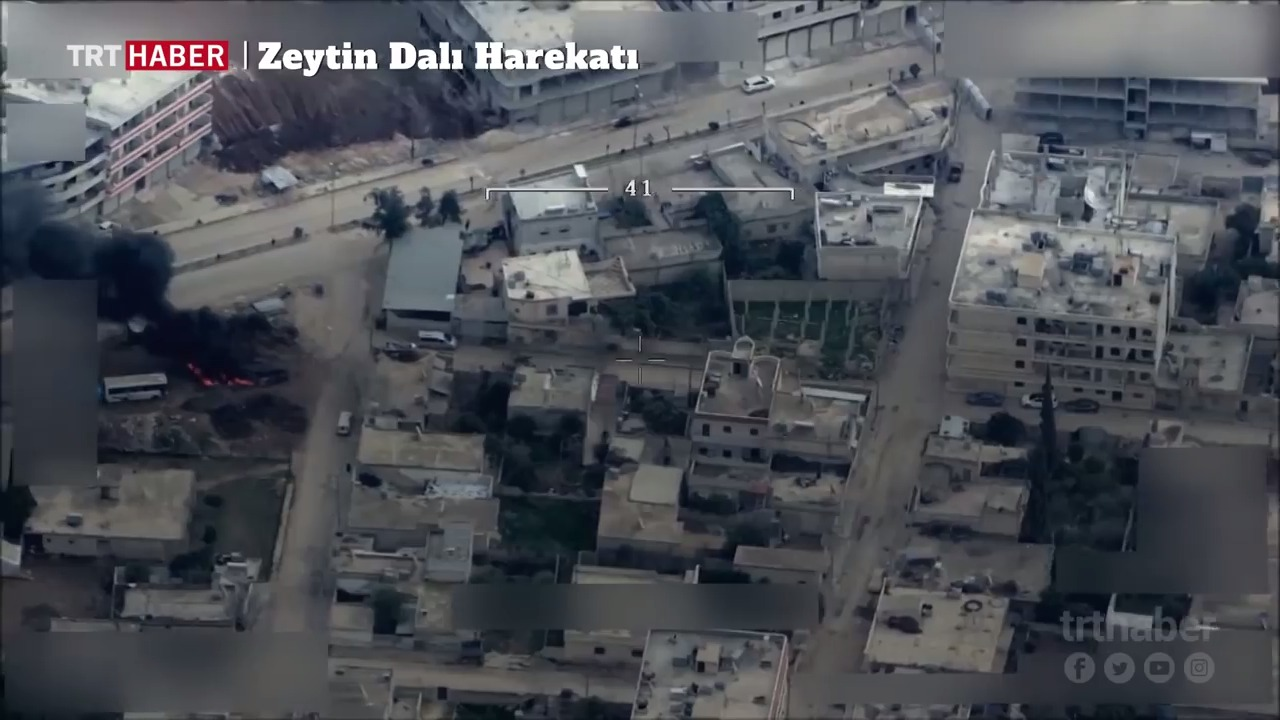arac: (97, 365, 174, 407), (404, 322, 464, 352), (324, 400, 364, 436), (741, 73, 779, 94)
